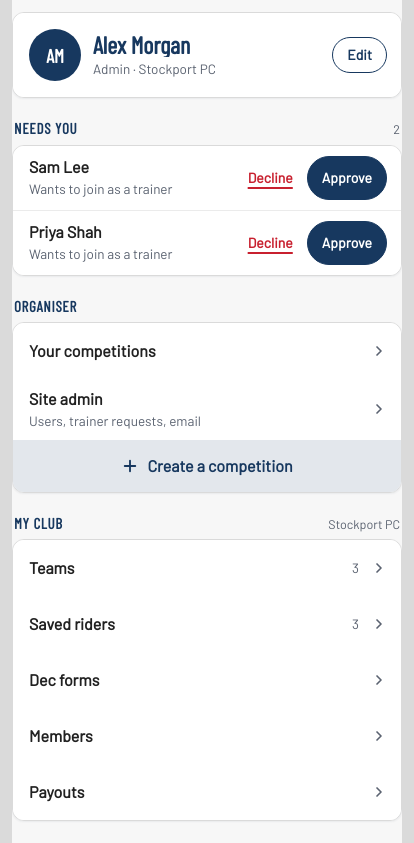
it: ProfilePage: needs you › approves a request, and the row goes
The image size is (414, 843).
Expected: the text "Sam Lee" is shown, [29,157,89,176]
Click the button with aria-label "Approve Sam Lee".
click(347, 178)  # box [307,156,387,200]
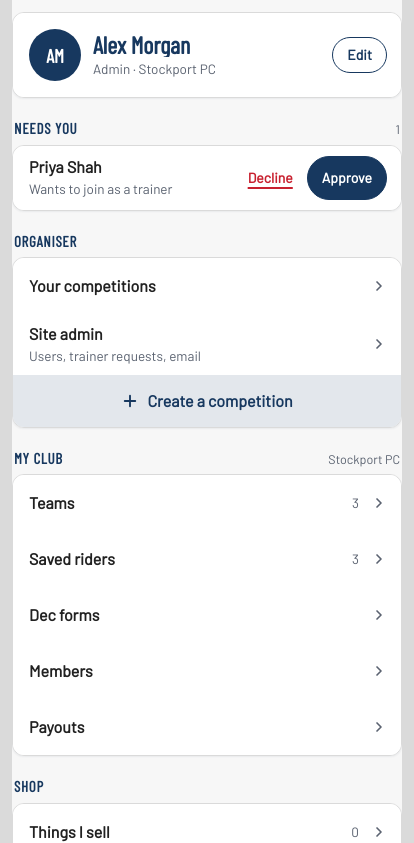
Expected: the text "Priya Shah" is shown, [29,157,102,176]
Expected: the text "Sam Lee" is gone
Expected: the text "1" is shown, [396,123,400,136]
